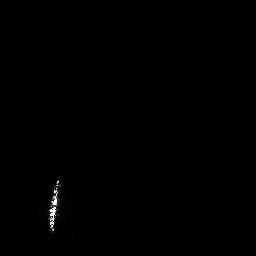ship: (47, 177, 62, 233)
